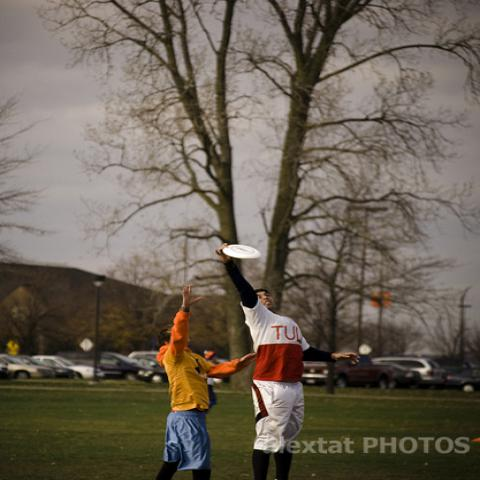car: (301, 355, 397, 389), (64, 350, 141, 382), (372, 357, 446, 387), (30, 356, 106, 378), (0, 354, 57, 380), (14, 357, 72, 377), (444, 368, 480, 394), (388, 365, 424, 389), (134, 366, 169, 385), (126, 350, 158, 370)
